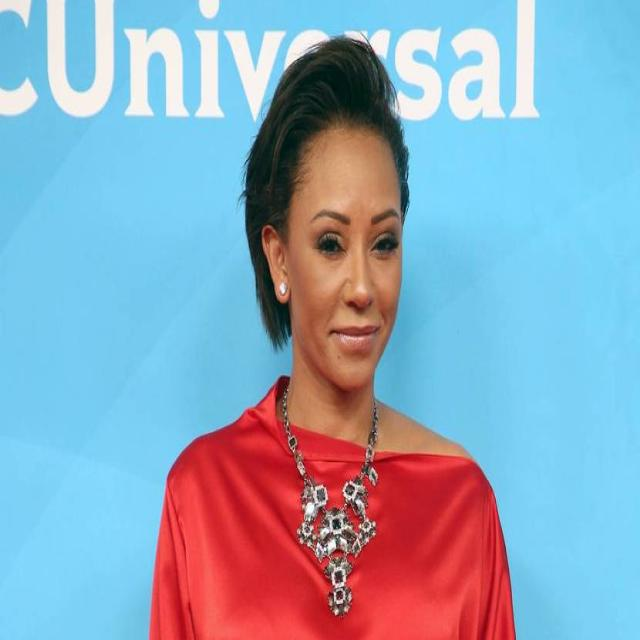human: (141, 32, 518, 640)
